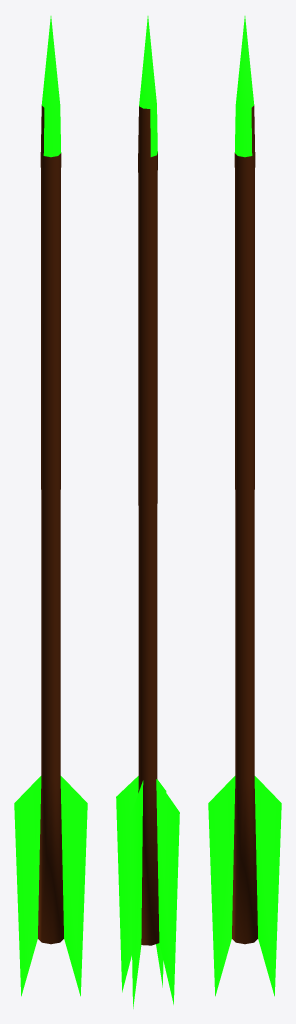
File: arrow.fbx
3 views of the same model, side by side, from view 1: azimuth 90°, elevation 25°; view 2: azimuth 150°, elevation 25°; view 3: azimuth 270°, elevation 25° (orthographic).
Visible parts, largest first — view 1: Cone; view 2: Cone; view 3: Cone.
Part boxes in pixels (bbox=[...]): Cone: bbox=[14, 16, 87, 996]; Cone: bbox=[116, 16, 179, 1008]; Cone: bbox=[208, 16, 281, 996].
Size of the model in its own units: 10.48 by 155 by 10.48.
